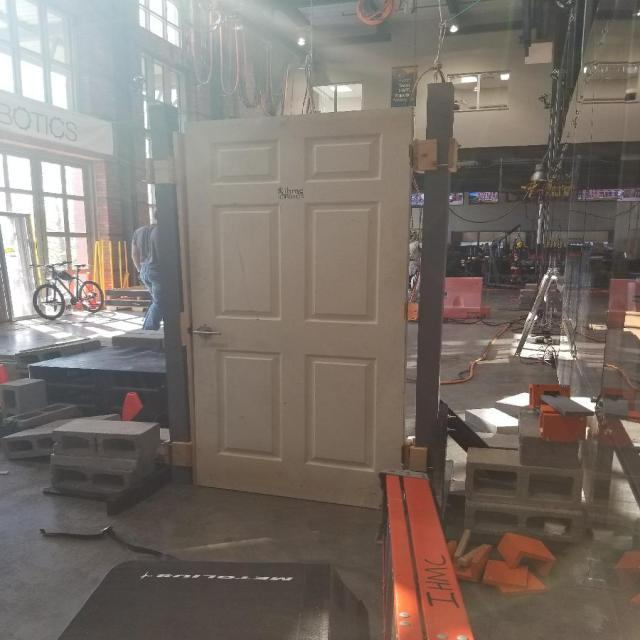door: (181, 104, 418, 513), (190, 322, 225, 343)
